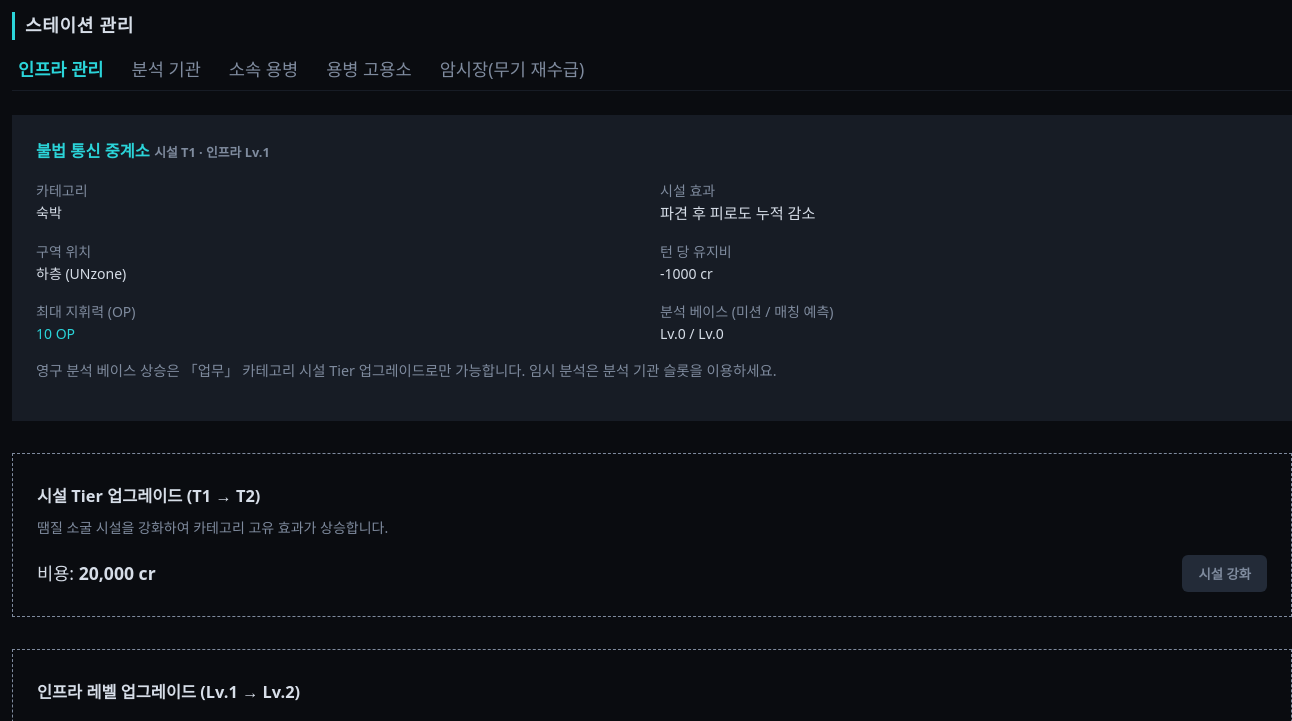
Test: StationView 컴포넌트 단위 테스트 › 분석 기관 탭 (T-DE-UI) › T-DE-UI-3: 슬롯 배치 중 progress·effective 표시
What coordinates should you click on to do the following:
click the button "분석 기관"
I would click on:
 (166, 68)
Its box is [126,55,207,82].
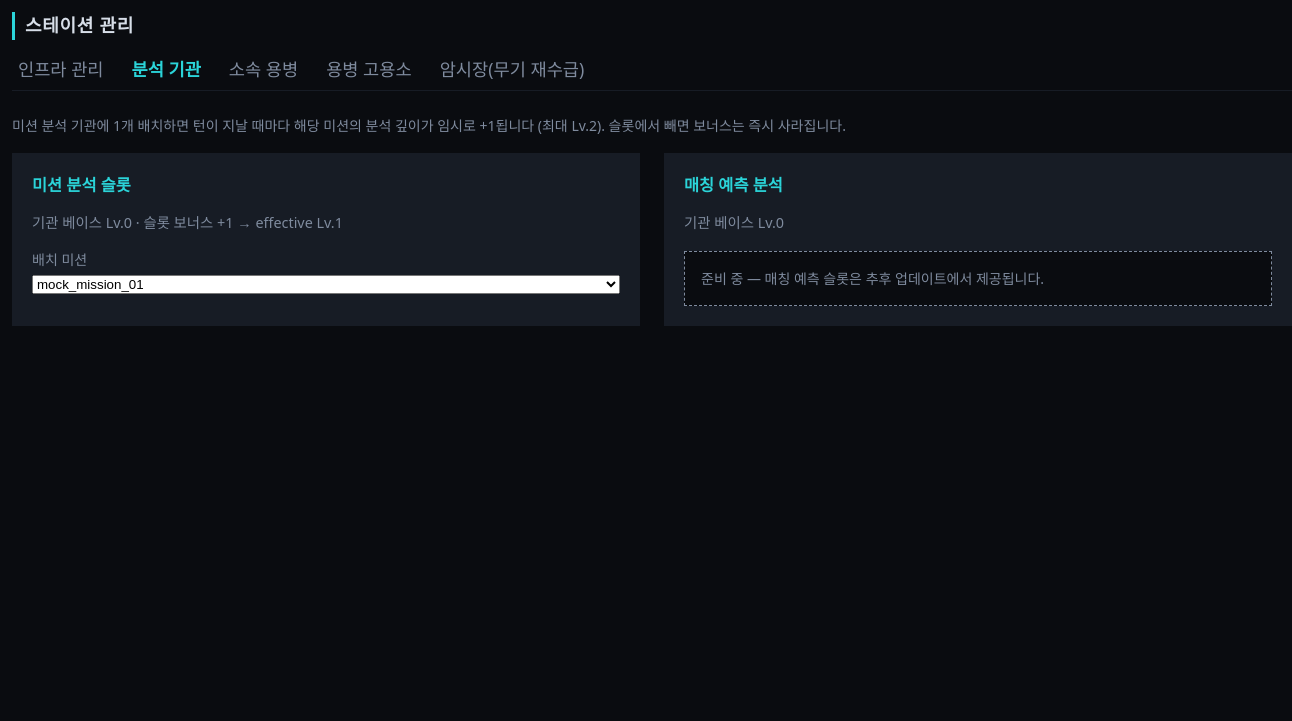
Expected: the text "기관 베이스 Lv.0 · 슬롯 보너스 +1 → effective Lv.1" is shown, [32,213,343,232]
